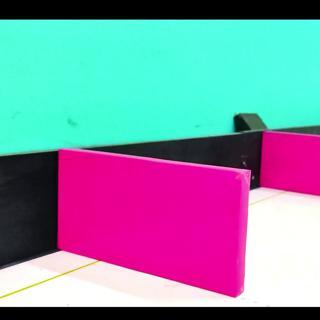xparking: (66, 174, 240, 293), (268, 139, 313, 192)
